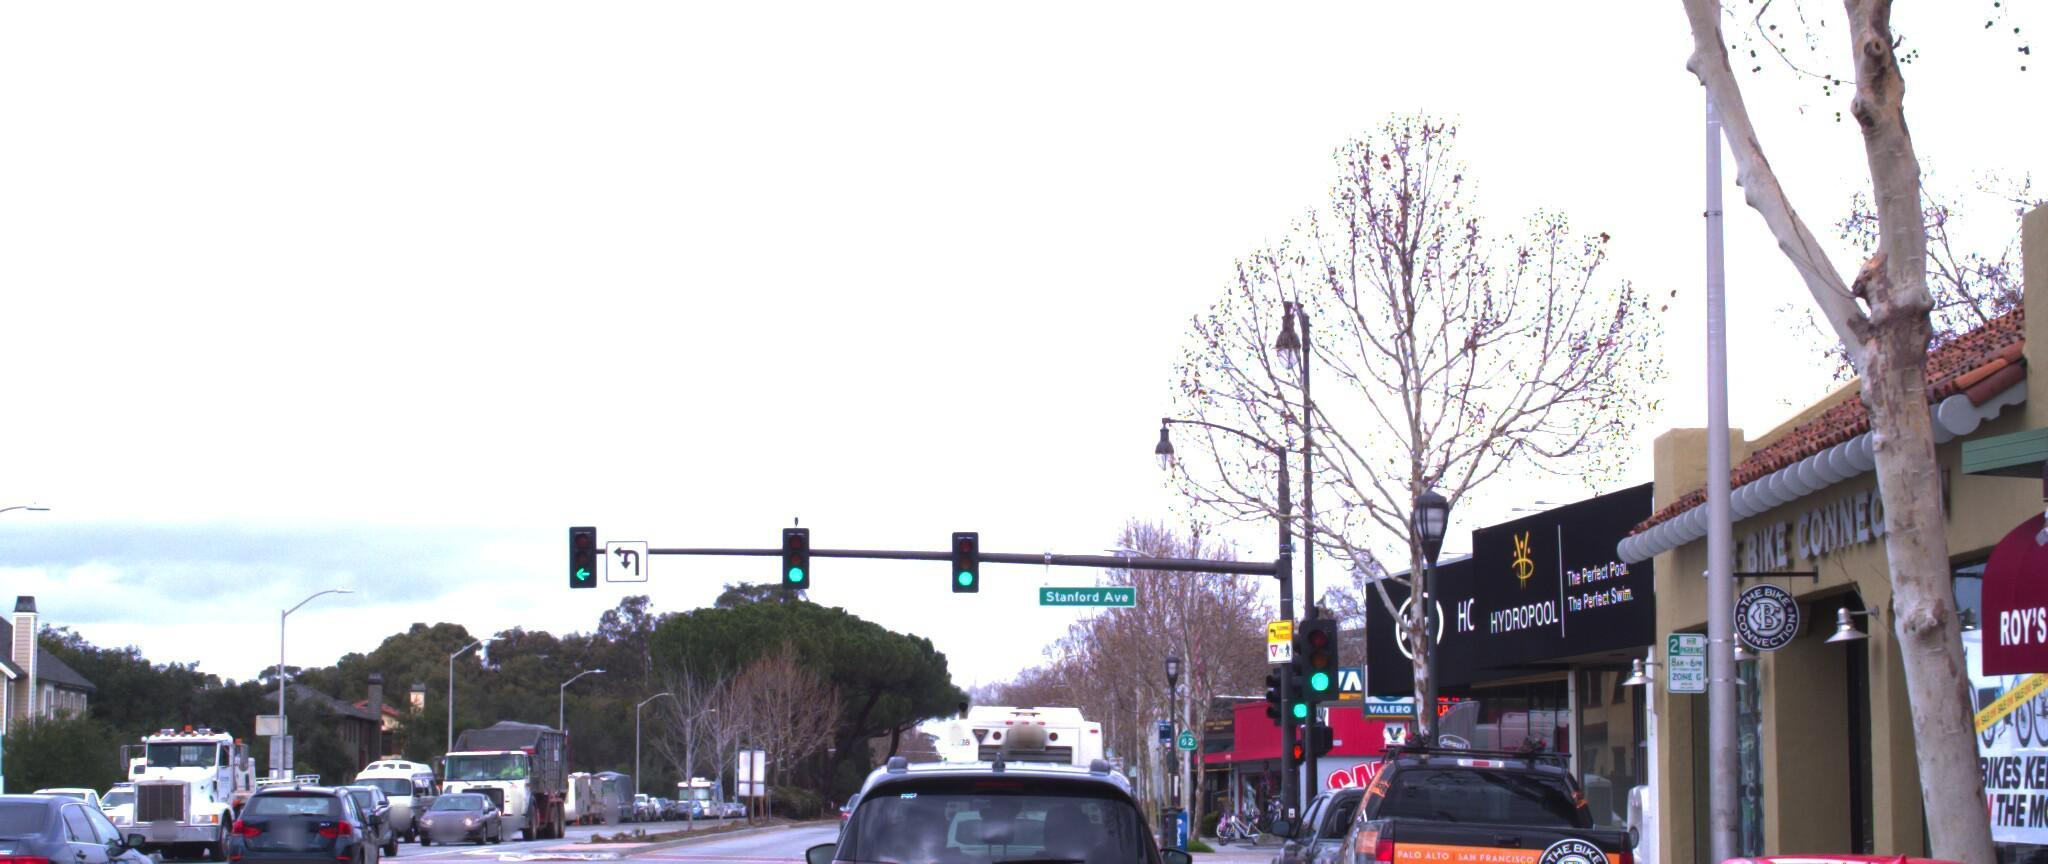car: (785, 715, 1190, 864), (1319, 730, 1676, 864), (1874, 623, 2048, 864), (1266, 770, 1565, 864), (0, 767, 201, 864), (1570, 827, 2048, 864), (219, 771, 404, 864)
truck: (95, 702, 404, 847), (940, 670, 1119, 831), (0, 701, 37, 864)
